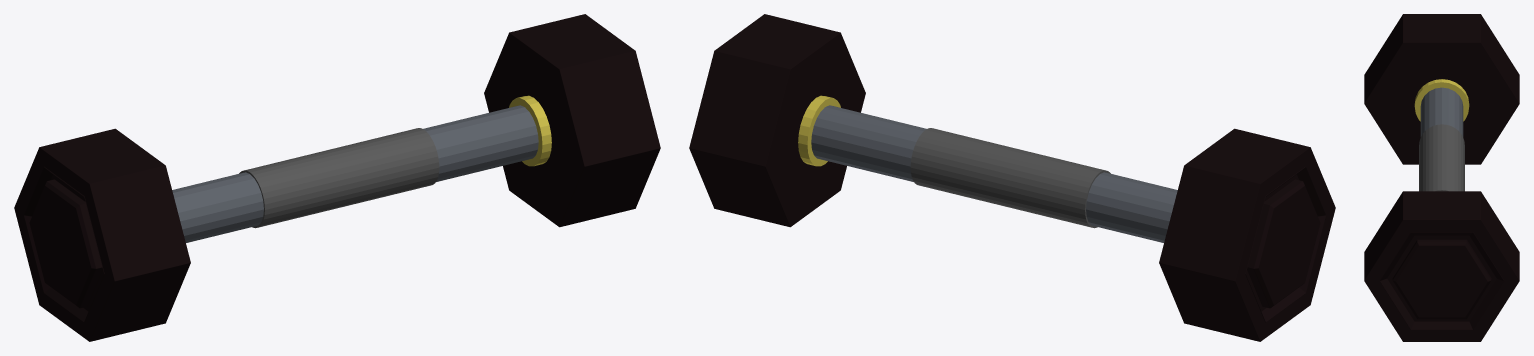
Rendered from facilitygym_dumbbell.glb.
3 renders of one model, left to right at view 1: azimuth 30°, elevation 25°; view 2: azimuth 150°, elevation 25°; view 3: azimuth 270°, elevation 25°, orthographic. The views are drawn at different scales.
Parts seen in each view (by area): view 1: Dumbbell_Head_L, Dumbbell_Head_R, Dumbbell_Grip, Dumbbell_Bar, Dumbbell_Ring_R; view 2: Dumbbell_Head_L, Dumbbell_Head_R, Dumbbell_Grip, Dumbbell_Bar, Dumbbell_Ring_R; view 3: Dumbbell_Head_R, Dumbbell_Head_L, Dumbbell_Grip, Dumbbell_Bar, Dumbbell_Ring_L.
Boxes of the visible parts, <box> form: Dumbbell_Head_L: <box>14,128,190,341</box>; Dumbbell_Head_R: <box>484,14,660,227</box>; Dumbbell_Grip: <box>239,128,439,228</box>; Dumbbell_Bar: <box>172,105,538,242</box>; Dumbbell_Ring_R: <box>509,95,551,166</box>; Dumbbell_Head_L: <box>1159,128,1335,341</box>; Dumbbell_Head_R: <box>689,14,865,227</box>; Dumbbell_Grip: <box>910,128,1110,228</box>; Dumbbell_Bar: <box>811,105,1177,242</box>; Dumbbell_Ring_R: <box>798,95,840,166</box>; Dumbbell_Head_R: <box>1364,191,1519,341</box>; Dumbbell_Head_L: <box>1364,14,1519,164</box>; Dumbbell_Grip: <box>1419,124,1464,191</box>; Dumbbell_Bar: <box>1420,87,1463,136</box>; Dumbbell_Ring_L: <box>1414,79,1469,121</box>.
Size of the model in its own units: 5.07 by 1.39 by 1.6.
